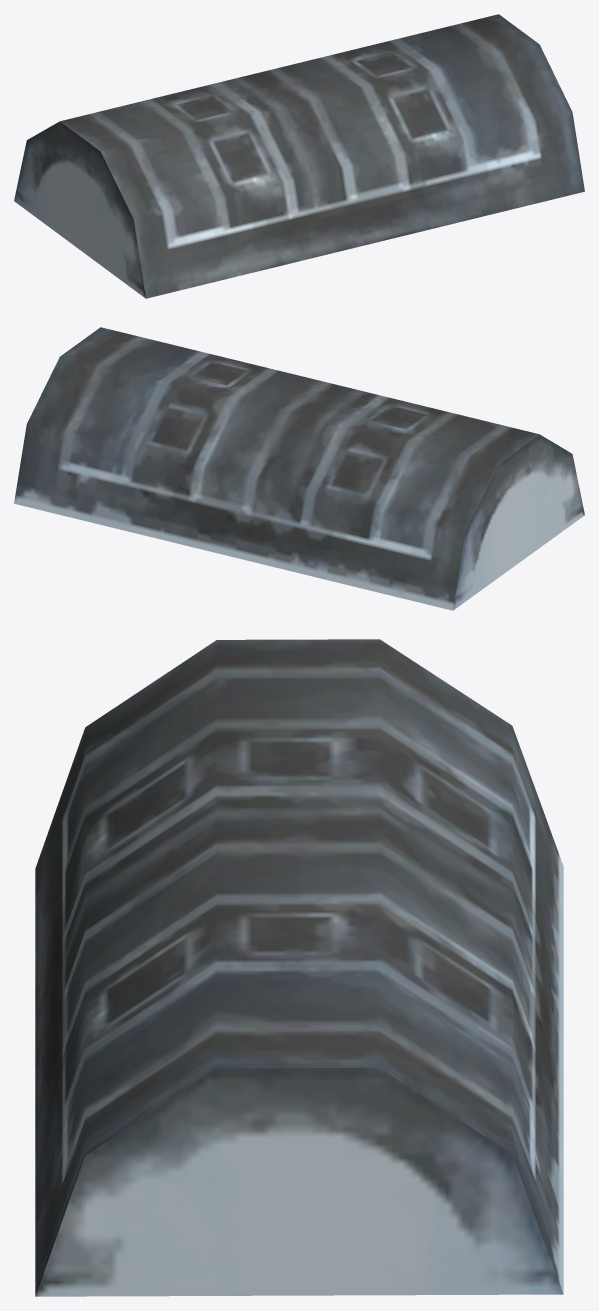
Rendered from hth_item_junk_07.glb.
The picture shows the model from 3 angles, top to bottom: view 1: azimuth 30°, elevation 25°; view 2: azimuth 150°, elevation 25°; view 3: azimuth 270°, elevation 25°; orthographic projection. The views are drawn at different scales.
Visible parts, largest first — view 1: hth_item_junk_07; view 2: hth_item_junk_07; view 3: hth_item_junk_07.
Boxes of the visible parts, bbox=[...] form: hth_item_junk_07: bbox=[14, 14, 584, 298]; hth_item_junk_07: bbox=[14, 327, 584, 610]; hth_item_junk_07: bbox=[35, 639, 563, 1296].
Bounding box in the file's own units: 0.1249 × 0.0311 × 0.0651.
1 material, 1 textured.
